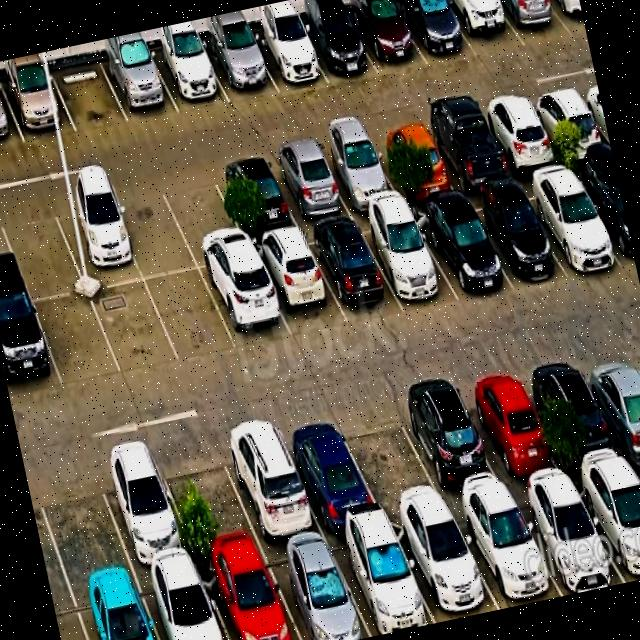empty: (152, 434, 262, 561), (333, 396, 447, 517), (29, 456, 133, 588), (157, 167, 251, 268), (107, 181, 197, 279), (145, 269, 237, 363), (89, 280, 180, 375), (33, 292, 121, 388), (0, 202, 85, 300), (50, 59, 128, 131)
occupied: (391, 380, 510, 508), (214, 415, 324, 547), (454, 367, 567, 494), (90, 444, 196, 573), (274, 409, 383, 533), (524, 353, 631, 479), (512, 483, 624, 595), (451, 496, 562, 609), (326, 522, 435, 636), (390, 511, 499, 623), (261, 538, 371, 640), (517, 170, 623, 274), (409, 200, 513, 301), (461, 188, 565, 288), (250, 232, 347, 339), (304, 221, 403, 323), (356, 211, 459, 309), (197, 550, 300, 640), (50, 191, 143, 290), (200, 259, 292, 349), (572, 466, 640, 582), (576, 344, 640, 465), (420, 110, 513, 193), (210, 156, 299, 241), (265, 145, 352, 227), (136, 563, 228, 640), (570, 162, 636, 267), (314, 135, 402, 213), (368, 122, 457, 199), (477, 97, 563, 175), (526, 86, 611, 162), (0, 298, 62, 400), (345, 0, 427, 75), (296, 10, 378, 83), (71, 575, 159, 640), (100, 50, 179, 122), (148, 43, 229, 113), (0, 69, 76, 142), (247, 24, 328, 91), (394, 0, 476, 65), (202, 34, 277, 101), (442, 0, 525, 58), (494, 0, 572, 45), (0, 83, 24, 147), (549, 0, 586, 35)
